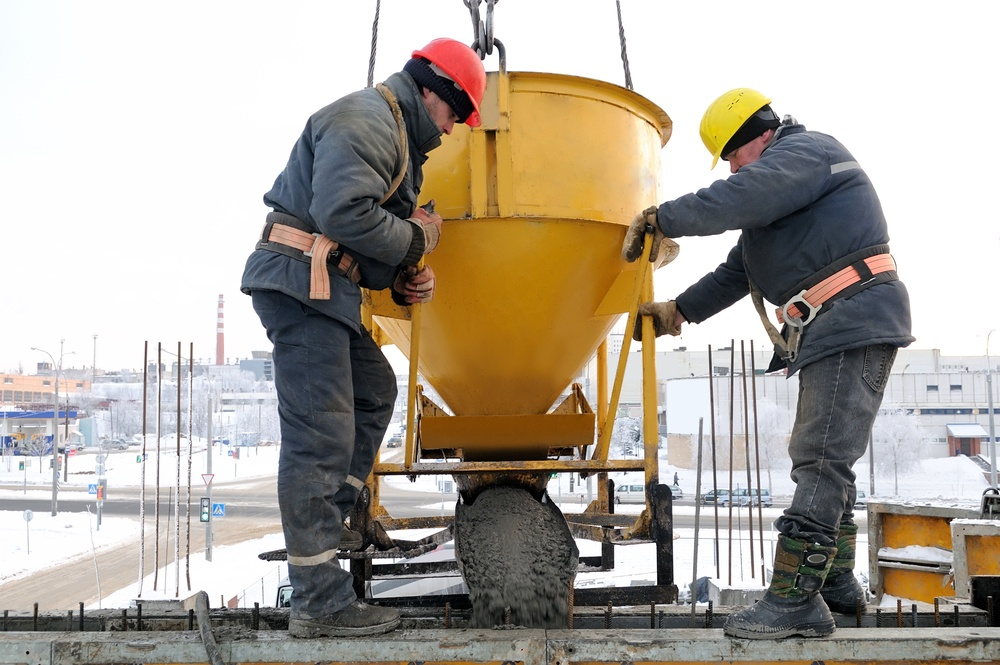red: (408, 39, 488, 135)
yellow: (697, 84, 779, 175)
